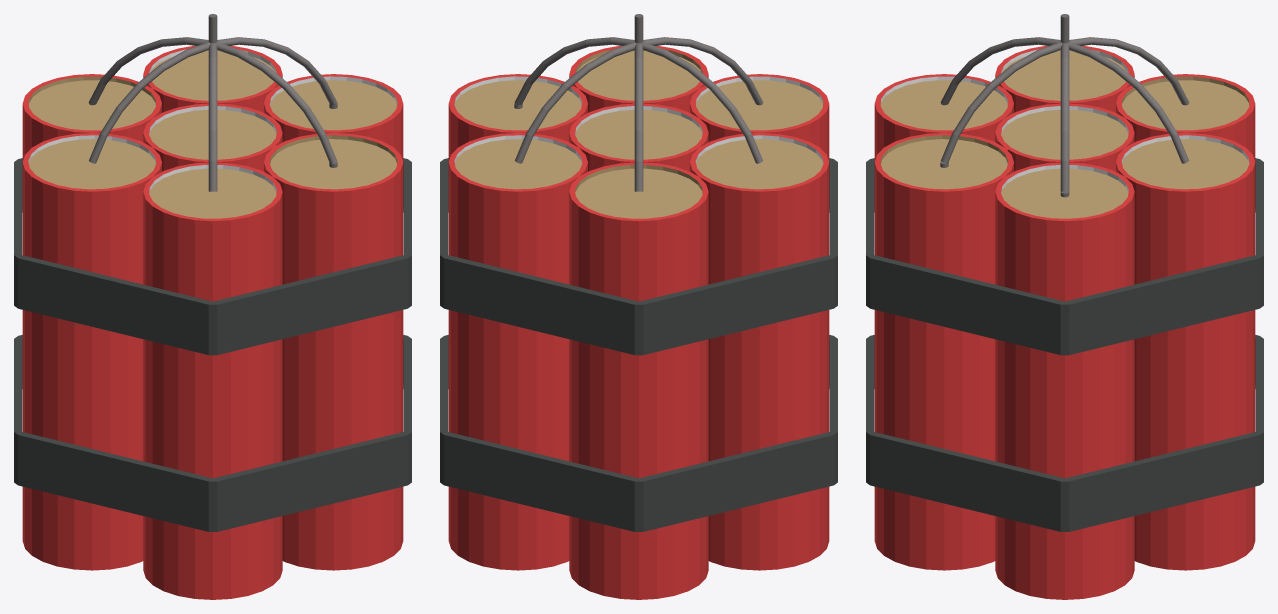
The model's file is tnt.fbx.
The picture shows the model from 3 angles, left to right: view 1: azimuth 30°, elevation 25°; view 2: azimuth 150°, elevation 25°; view 3: azimuth 270°, elevation 25°; orthographic projection.
Visible parts, largest first — view 1: skp2045_1; view 2: skp2045_1; view 3: skp2045_1.
Boxes of the visible parts, box(x1,y1,x2,y2) form: skp2045_1: box(14, 14, 411, 599); skp2045_1: box(440, 14, 837, 599); skp2045_1: box(866, 14, 1263, 599).
Bounding box in the file's own units: 163 × 196 × 143.
